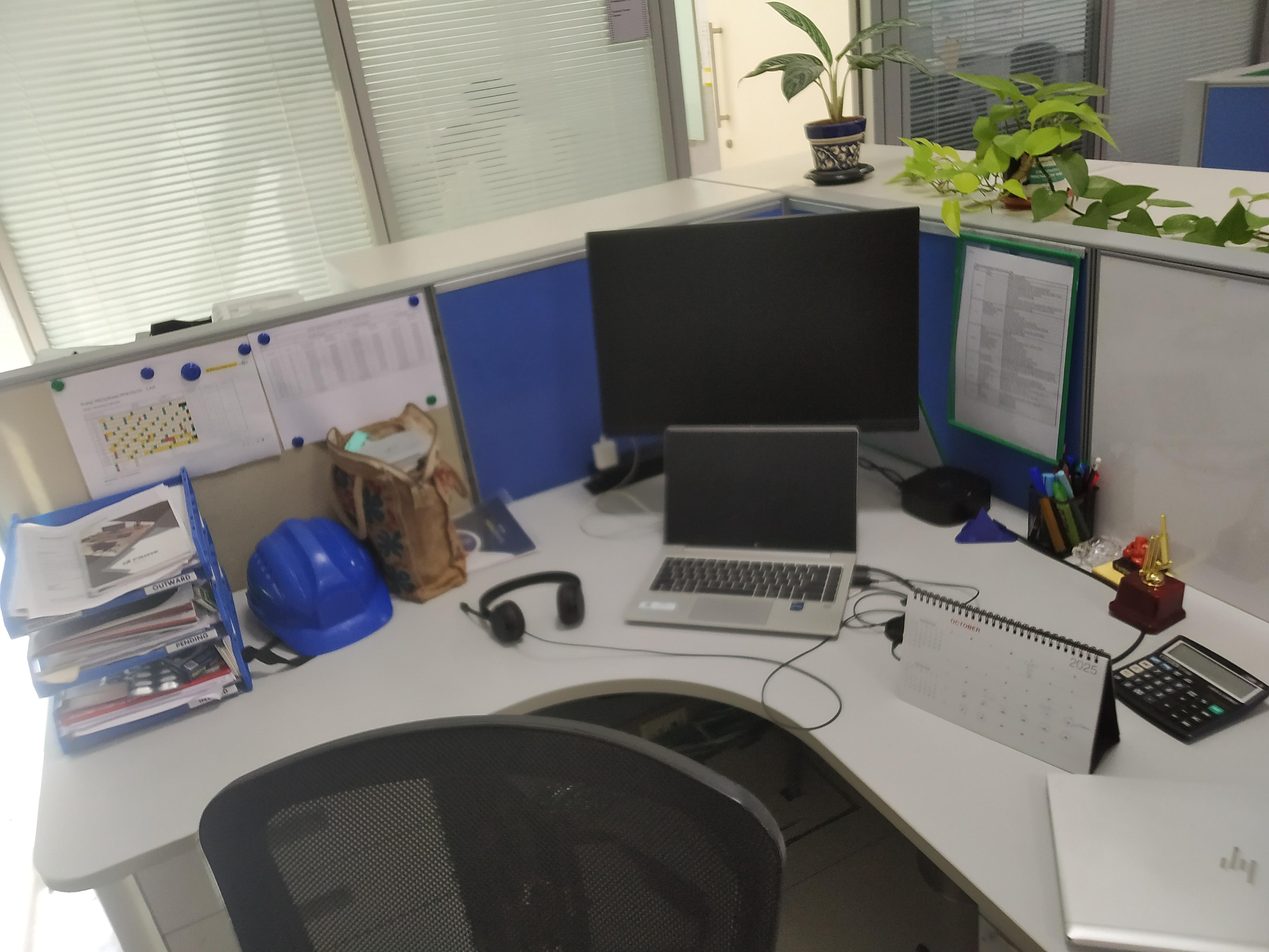calender: (879, 577, 1130, 788)
desktop: (581, 202, 926, 447)
filetray: (4, 463, 257, 762)
headphone: (452, 552, 605, 665)
laptop: (616, 420, 863, 643)
page: (41, 335, 286, 517), (945, 226, 1092, 481), (248, 290, 455, 455)
